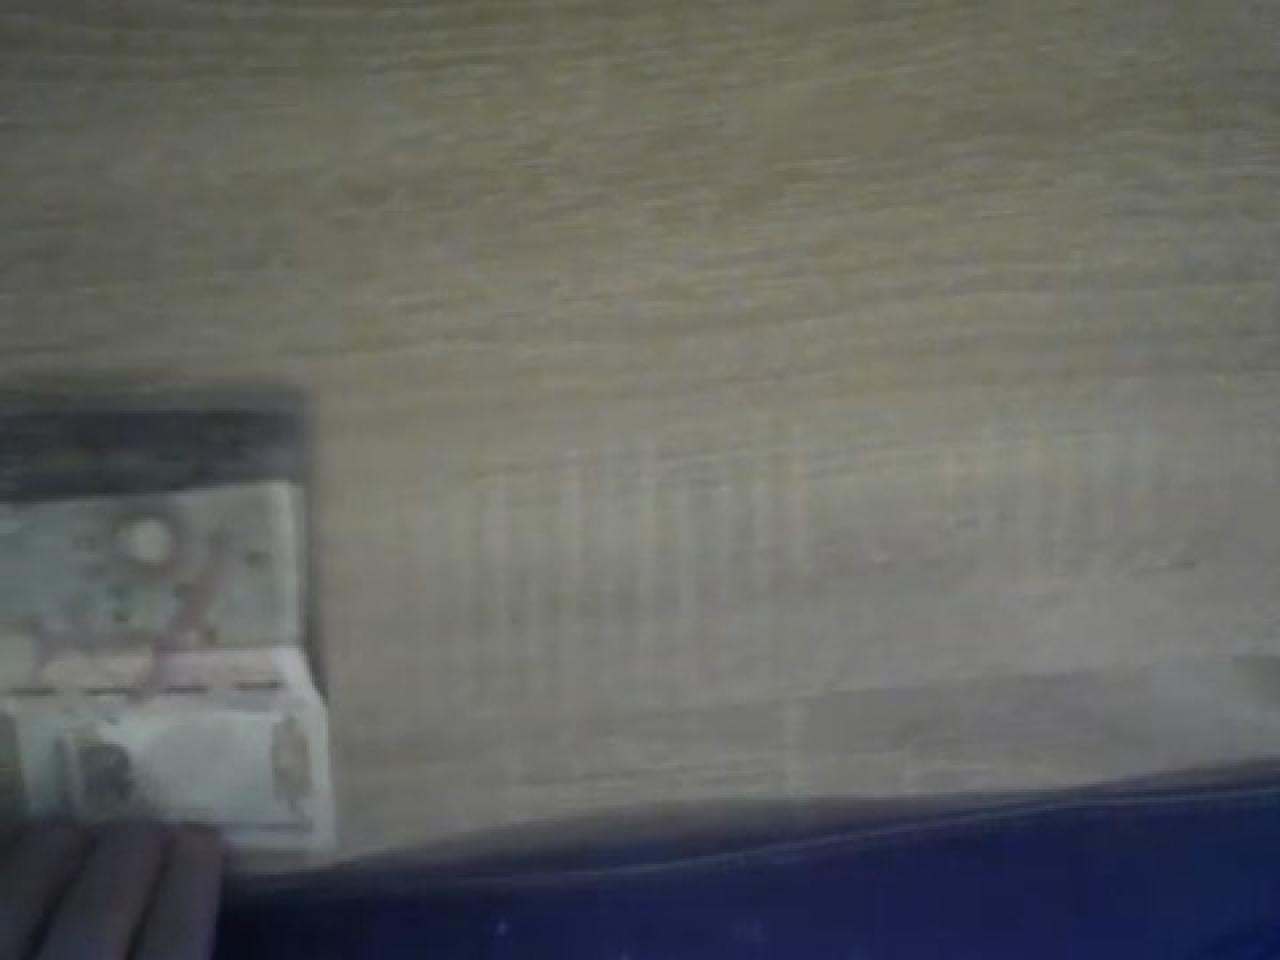10leva: (0, 405, 339, 856)
